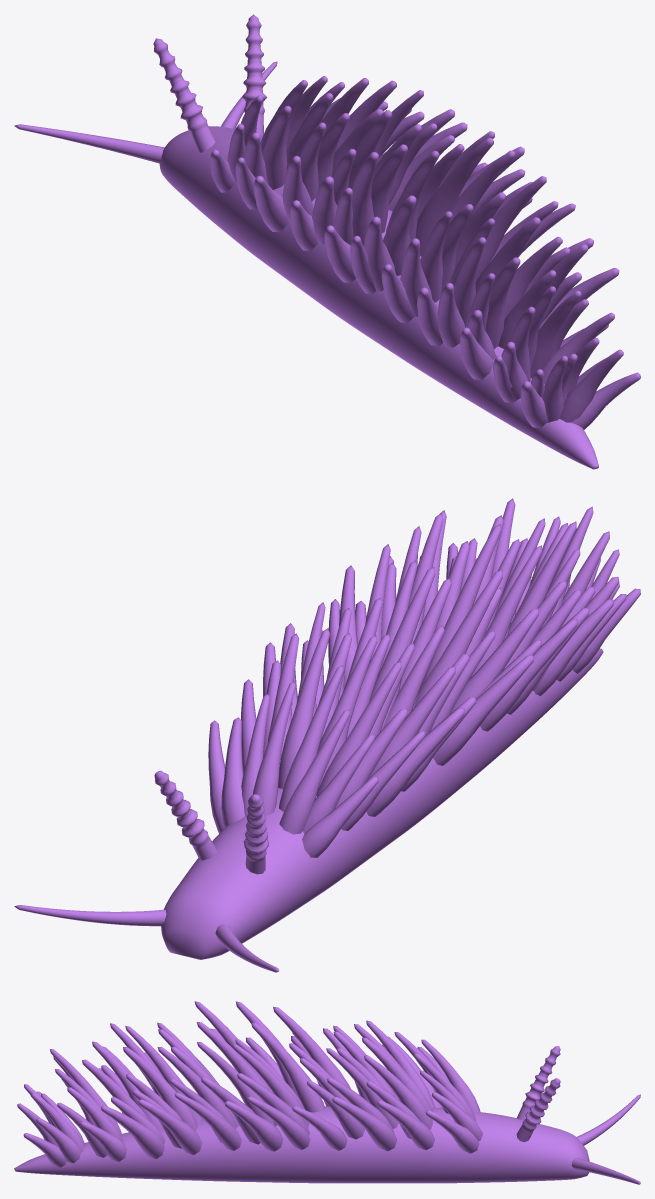
Rendered from nudibranch.glb.
3 views of the same model, one above another, from view 1: azimuth 30°, elevation 25°; view 2: azimuth 150°, elevation 25°; view 3: azimuth 270°, elevation 25° (orthographic). The views are drawn at different scales.
Visible parts, largest first — view 1: nudibranch; view 2: nudibranch; view 3: nudibranch.
Boxes of the visible parts, box(x1,y1,x2,y2) form: nudibranch: box(14, 14, 640, 469); nudibranch: box(14, 498, 640, 972); nudibranch: box(14, 1001, 640, 1184).
Bounding box in the file's own units: 0.0256 × 0.0213 × 0.076.
